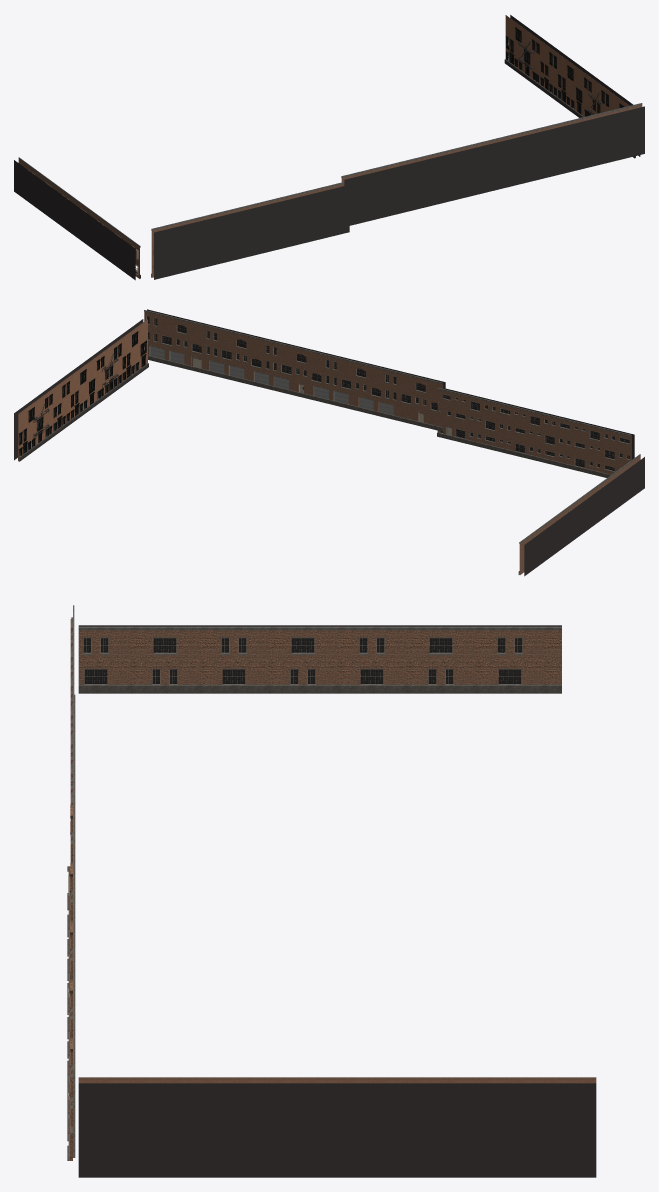
Rendered from kilnyard_backdrop.glb.
3 views of the same model, one above another, from view 1: azimuth 30°, elevation 25°; view 2: azimuth 150°, elevation 25°; view 3: azimuth 270°, elevation 25° (orthographic). The views are drawn at different scales.
Parts seen in each view (by area): view 1: kilnyard_inside_warehouse, kilnyard_inside_factory, kilnyard_apartments, kilnyard_inside_shed, kilnyard_warehouse, kilnyard_factory, kilnyard_shed, kilnyard_inside_apartments; view 2: kilnyard_warehouse, kilnyard_factory, kilnyard_apartments, kilnyard_inside_shed, kilnyard_inside_warehouse, kilnyard_inside_factory, kilnyard_shed, kilnyard_inside_apartments; view 3: kilnyard_inside_apartments, kilnyard_shed, kilnyard_inside_shed, kilnyard_apartments, kilnyard_warehouse, kilnyard_factory.
Boxes of the visible parts, x1,y1,x2,y2 form: kilnyard_inside_warehouse: [344, 106, 644, 226]; kilnyard_inside_factory: [154, 185, 349, 279]; kilnyard_apartments: [504, 15, 635, 158]; kilnyard_inside_shed: [14, 160, 135, 280]; kilnyard_warehouse: [341, 103, 642, 182]; kilnyard_factory: [151, 182, 344, 277]; kilnyard_shed: [18, 157, 140, 278]; kilnyard_inside_apartments: [510, 15, 640, 156]; kilnyard_warehouse: [144, 310, 443, 431]; kilnyard_factory: [437, 388, 631, 477]; kilnyard_apartments: [18, 319, 148, 461]; kilnyard_inside_shed: [524, 457, 644, 576]; kilnyard_inside_warehouse: [147, 309, 445, 409]; kilnyard_inside_factory: [440, 388, 634, 470]; kilnyard_shed: [518, 454, 640, 574]; kilnyard_inside_apartments: [14, 319, 143, 460]; kilnyard_inside_apartments: [78, 1083, 596, 1177]; kilnyard_shed: [78, 626, 561, 693]; kilnyard_inside_shed: [78, 625, 561, 683]; kilnyard_apartments: [78, 1077, 596, 1083]; kilnyard_warehouse: [67, 777, 75, 1160]; kilnyard_factory: [70, 605, 75, 866].
Size of the model in its own units: 101 by 10.52 by 46.4.
Materials: 13 (12 with a texture image).
